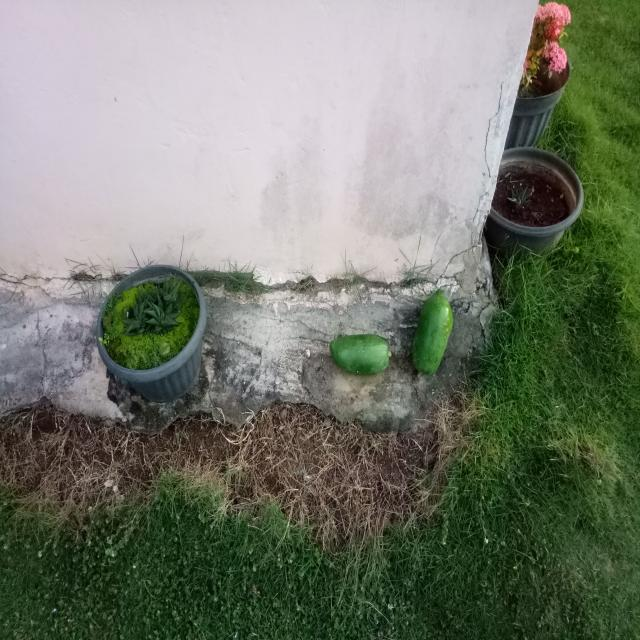Pepaya unrippen: (321, 311, 394, 387), (413, 275, 456, 392)
